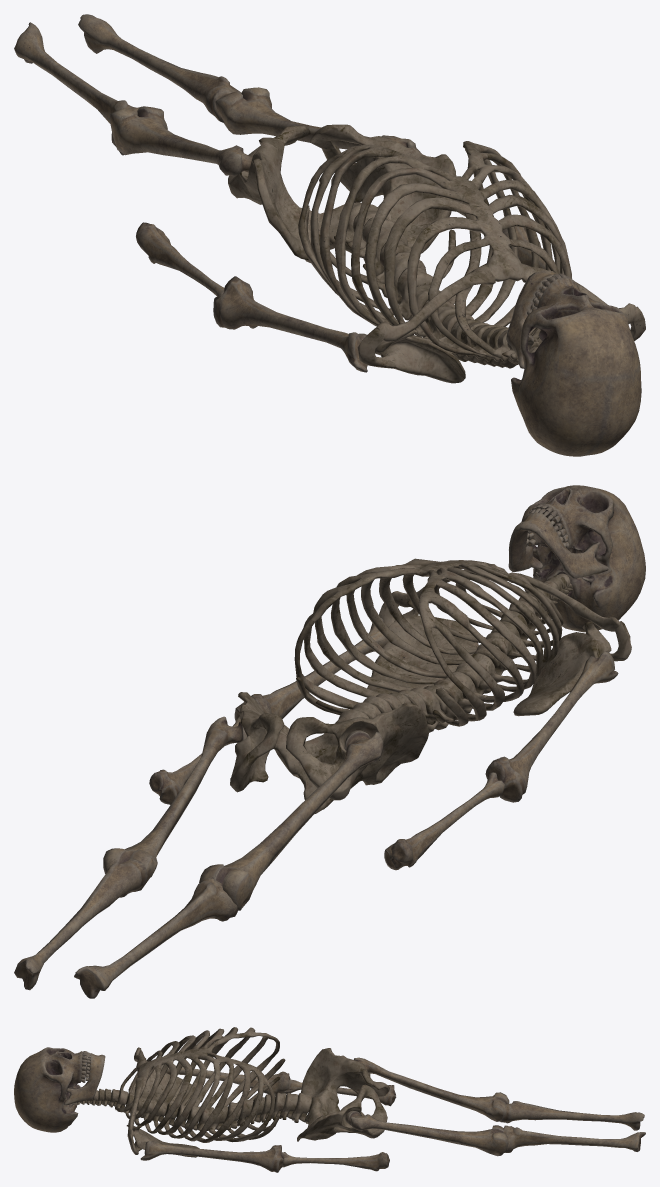
Rendered from sm_Skeleton_01_05.fbx.
The picture shows the model from 3 angles, top to bottom: view 1: azimuth 30°, elevation 25°; view 2: azimuth 150°, elevation 25°; view 3: azimuth 270°, elevation 25°; orthographic projection. The views are drawn at different scales.
Visible parts, largest first — view 1: sm_Skeleton_01_05_LOD0; view 2: sm_Skeleton_01_05_LOD0; view 3: sm_Skeleton_01_05_LOD0.
Part boxes in pixels (<box>): sm_Skeleton_01_05_LOD0: <box>14,14,645,456</box>; sm_Skeleton_01_05_LOD0: <box>14,485,645,998</box>; sm_Skeleton_01_05_LOD0: <box>14,1027,645,1172</box>.
Size of the model in its own units: 52.91 by 169 by 29.67.
